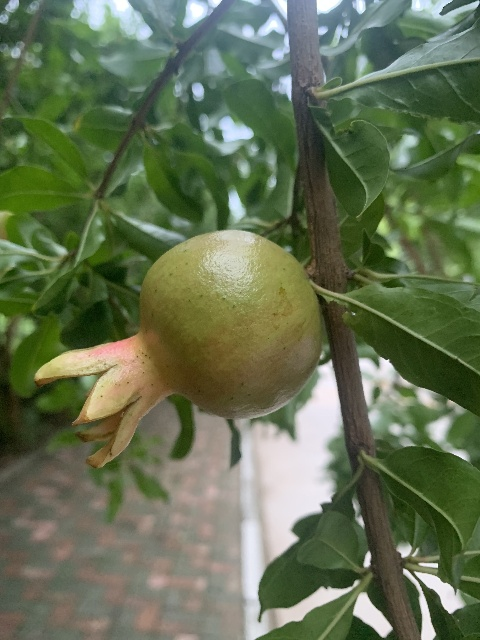mid-growth: (36, 229, 321, 470)
